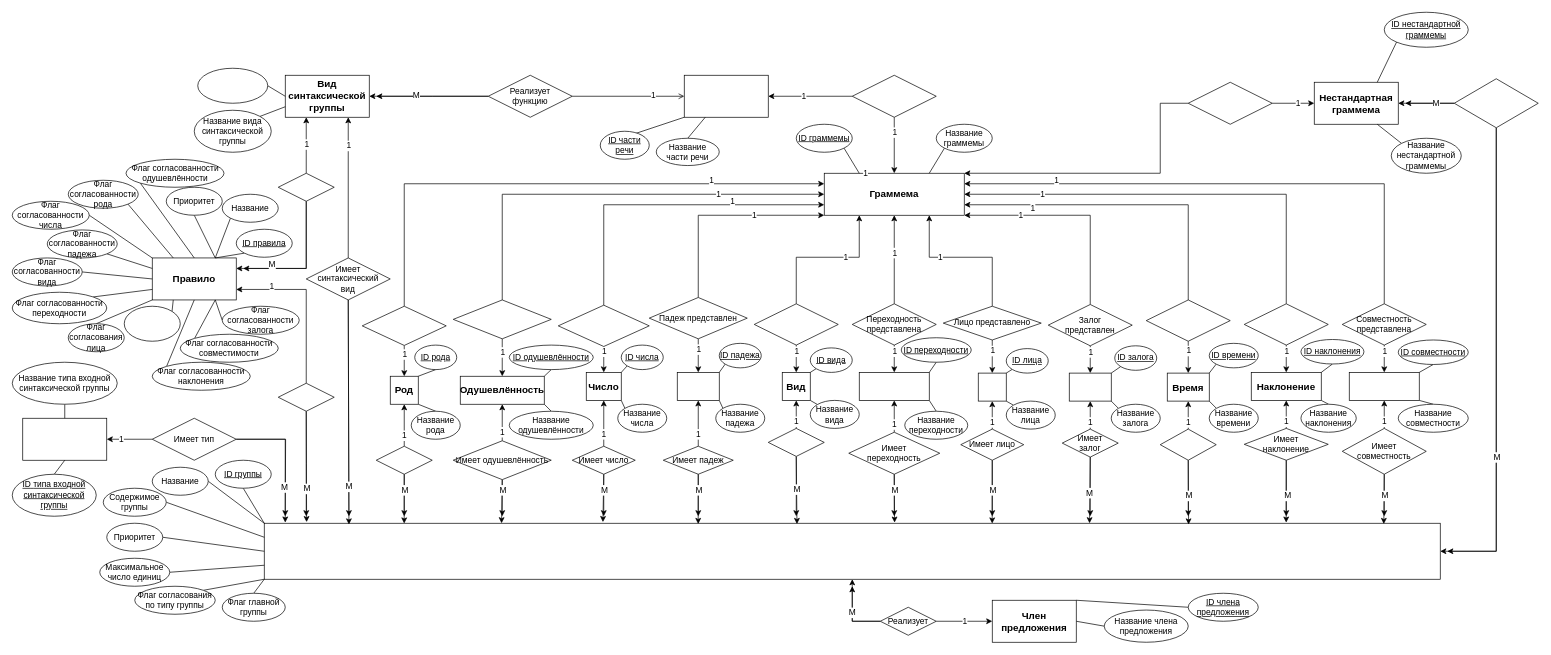
Image size: 1551x655. Some labels were removed from this diagram. The centre of each missing label's shape, as x and y in pixels:
ID вида синтаксической группы: point (232, 85)
Вид представлен: point (796, 324)
Включает: point (306, 397)
Время представлено: point (1188, 320)
Входная синтаксическая группа: point (852, 551)
Залог: point (1090, 386)
Имеет вид: point (796, 442)
Имеет время: point (1188, 444)
Имеет род: point (404, 460)
Лицо: point (992, 386)
Меняет: point (306, 187)
Наклонение представлено: point (1286, 324)
Одушевлённость представлена: point (502, 319)
Падеж: point (698, 386)
Переходность: point (894, 386)
Представлена: point (894, 96)
Род представлен: point (404, 325)
Совместность: point (1384, 386)
Содержит нестандартные: point (1496, 103)
Тип входной синтаксической группы: point (64, 439)
Флаг согласования времени: point (152, 323)
Часть речи: point (726, 96)
Число представлено: point (603, 325)
Является: point (1230, 103)
